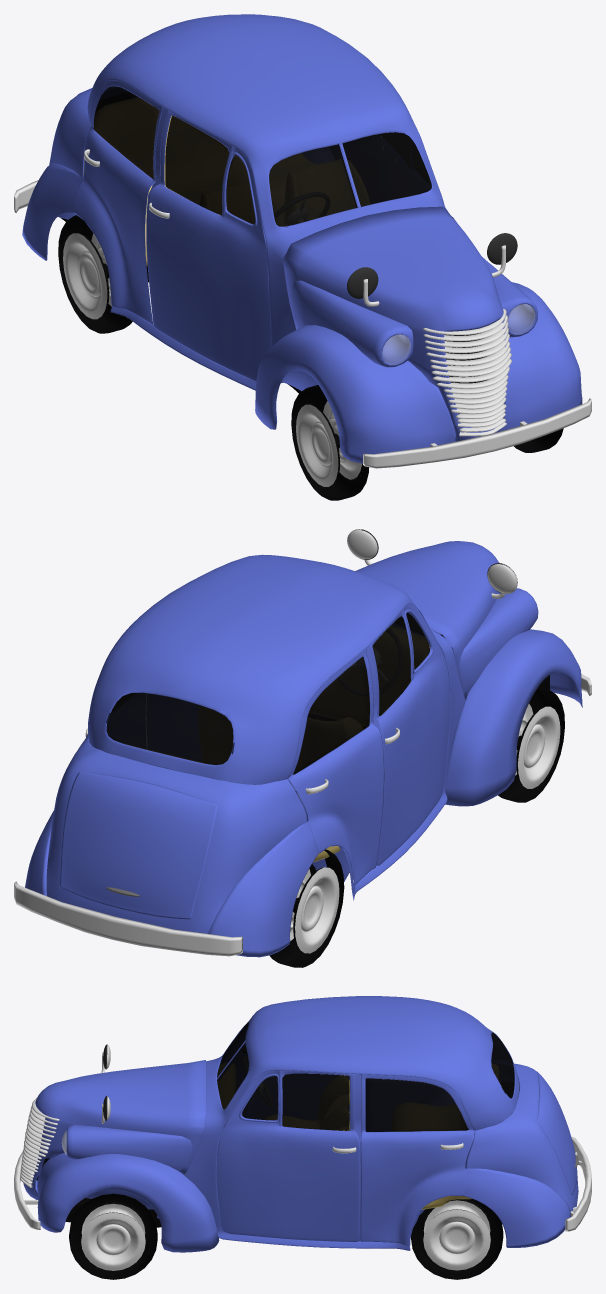
The model's file is Car.glb.
The picture shows the model from 3 angles, top to bottom: view 1: azimuth 30°, elevation 25°; view 2: azimuth 150°, elevation 25°; view 3: azimuth 270°, elevation 25°; orthographic projection. The views are drawn at different scales.
Visible parts, largest first — view 1: Plane.013, Plane.002, Plane, Plane.012, Plane.010, Plane.006, Circle.009, Plane.008, Plane.005, Cube.004, Plane.009, Plane.003 (+5 smaller); view 2: Plane.013, Plane.004, Plane.001, Plane.002, Plane.012, Plane, Plane.006, Plane.003, Plane.011, Cube.005, Plane.009, Plane.008 (+5 smaller); view 3: Plane.013, Plane.012, Plane, Plane.006, Plane.002, Plane.001, Plane.003, Plane.005, Plane.009, Circle.005, Plane.008, Circle.001 (+9 smaller).
Boxes of the visible parts, x1=… form: Plane.013: x1=87, y1=14, x2=449, y2=390; Plane.002: x1=255, y1=282, x2=582, y2=463; Plane: x1=283, y1=206, x2=517, y2=441; Plane.012: x1=146, y1=110, x2=270, y2=381; Plane.010: x1=269, y1=132, x2=431, y2=226; Plane.006: x1=74, y1=80, x2=162, y2=325; Circle.009: x1=423, y1=308, x2=511, y2=436; Plane.008: x1=292, y1=257, x2=538, y2=367; Plane.005: x1=165, y1=115, x2=255, y2=224; Cube.004: x1=363, y1=398, x2=591, y2=468; Plane.009: x1=93, y1=86, x2=159, y2=178; Plane.003: x1=22, y1=163, x2=83, y2=260; Plane.013: x1=88, y1=554, x2=465, y2=900; Plane.004: x1=59, y1=772, x2=217, y2=919; Plane.001: x1=46, y1=735, x2=308, y2=933; Plane.002: x1=437, y1=629, x2=582, y2=806; Plane.012: x1=369, y1=604, x2=450, y2=865; Plane: x1=347, y1=529, x2=517, y2=701; Plane.006: x1=86, y1=649, x2=384, y2=893; Plane.003: x1=25, y1=811, x2=349, y2=957; Plane.011: x1=106, y1=692, x2=234, y2=764; Cube.005: x1=14, y1=881, x2=242, y2=956; Plane.009: x1=293, y1=657, x2=369, y2=774; Plane.008: x1=453, y1=588, x2=538, y2=693; Plane.013: x1=185, y1=996, x2=519, y2=1250; Plane.012: x1=216, y1=1070, x2=359, y2=1242; Plane: x1=23, y1=1044, x2=205, y2=1199; Plane.006: x1=360, y1=1073, x2=474, y2=1245; Plane.002: x1=37, y1=1152, x2=219, y2=1252; Plane.001: x1=465, y1=1063, x2=578, y2=1216; Plane.003: x1=413, y1=1168, x2=570, y2=1247; Plane.005: x1=242, y1=1073, x2=349, y2=1130; Plane.009: x1=365, y1=1078, x2=469, y2=1131; Circle.005: x1=423, y1=1200, x2=490, y2=1270; Plane.008: x1=61, y1=1124, x2=192, y2=1171; Circle.001: x1=81, y1=1203, x2=145, y2=1270.
Bounding box in the file's own units: 1.29 × 1.47 × 3.48.
